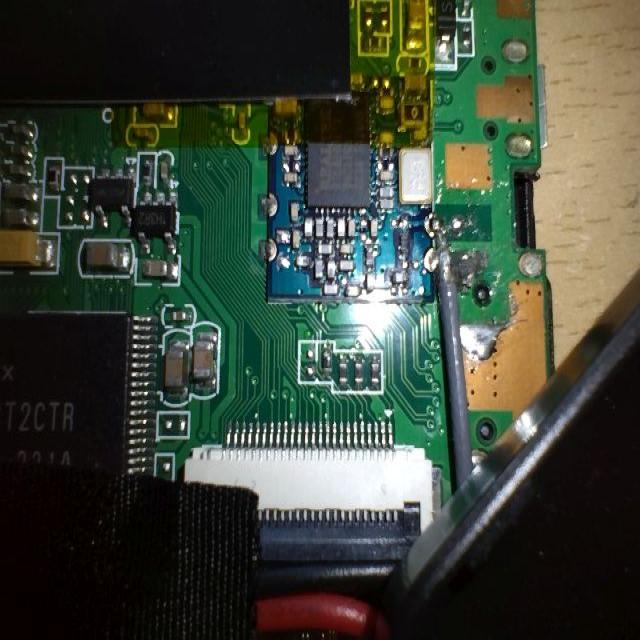capacitor: (186, 315, 234, 409), (152, 320, 189, 414), (74, 230, 133, 277)
